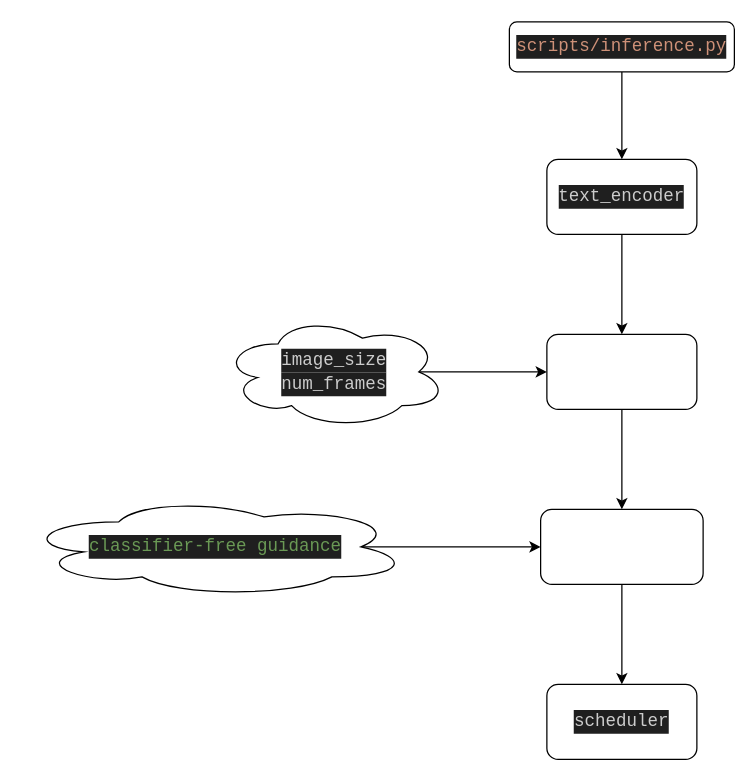
The diagram is 756 pixels wide and 781 high, and some of its shapes have lost their labels. Here are the shapes that lost their labels. From the top down, the centre of each, then its label:
At [621,371]: "vae".
At [621,546]: "model diffusion_model".
